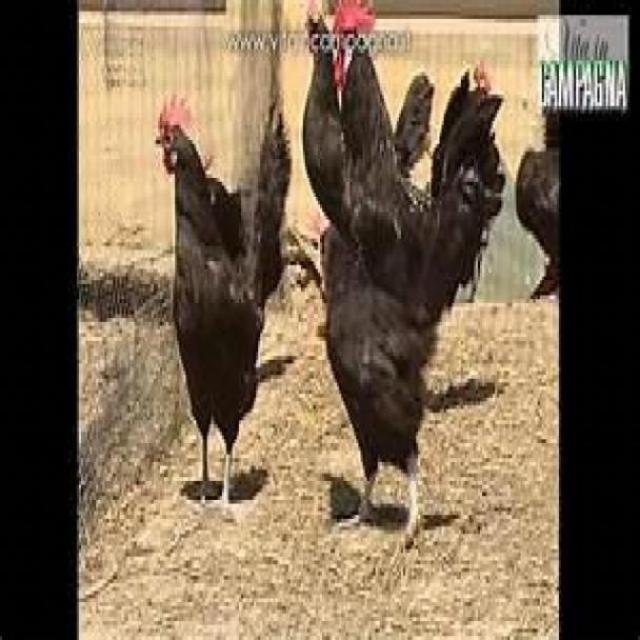Chicken: (154, 95, 292, 508), (333, 0, 506, 318), (320, 225, 433, 547), (302, 0, 435, 246)
